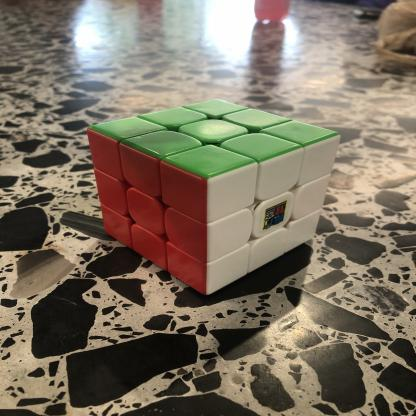SolvedCube: (74, 94, 340, 300)
